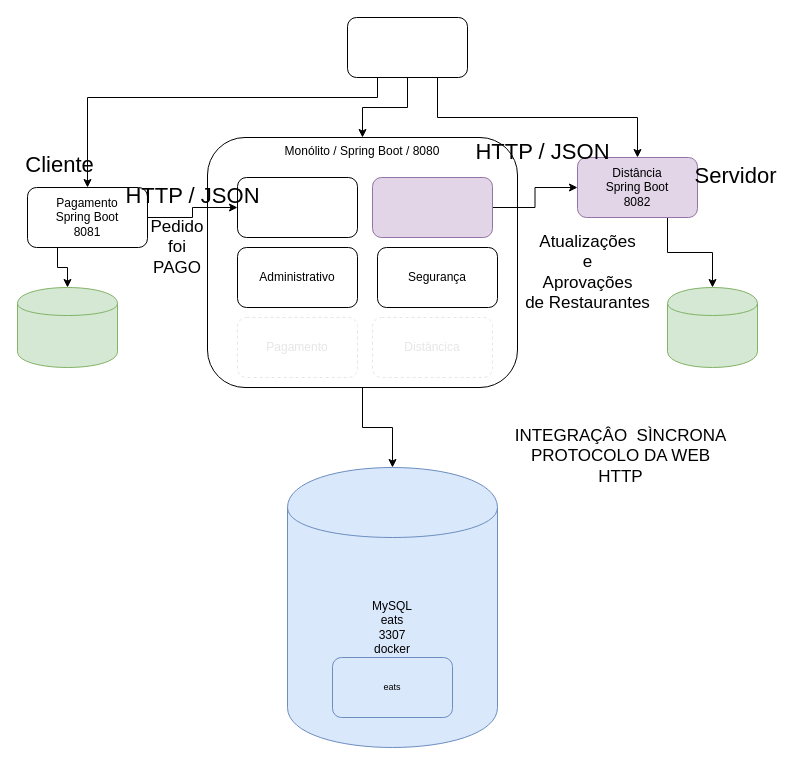
The diagram is 803 pixels wide and 765 high, and some of its shapes have lost their labels. The centre of each missing label's shape, as x and y in pixels:
MongoDB eats_distancia 27018 docker: point 712,327
MySQL eats_pagamento 3308 docker: point 67,327
Pedido Servidor: point 297,207
Restaurante Cliente: point 432,207
UI: point 407,47
